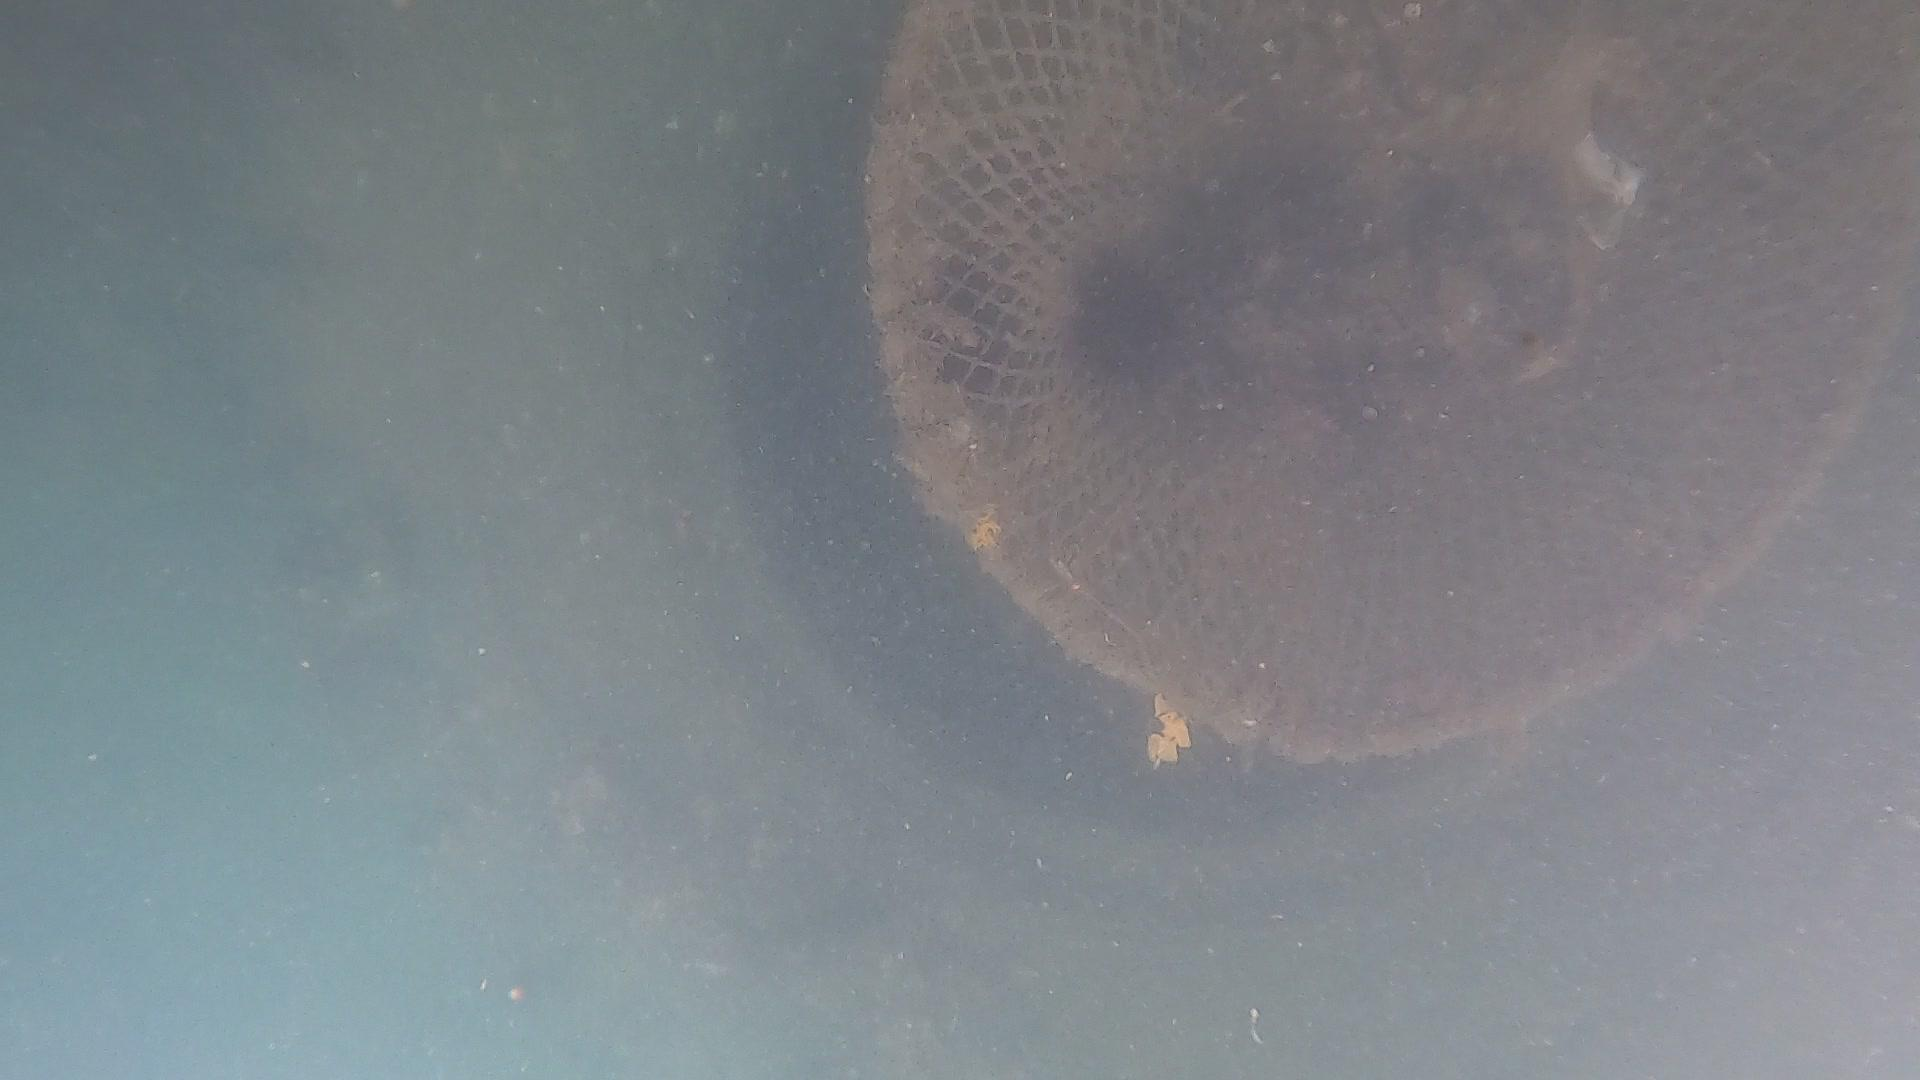circular fish trap: (861, 0, 1920, 762)
tire: (276, 0, 1909, 1080)
